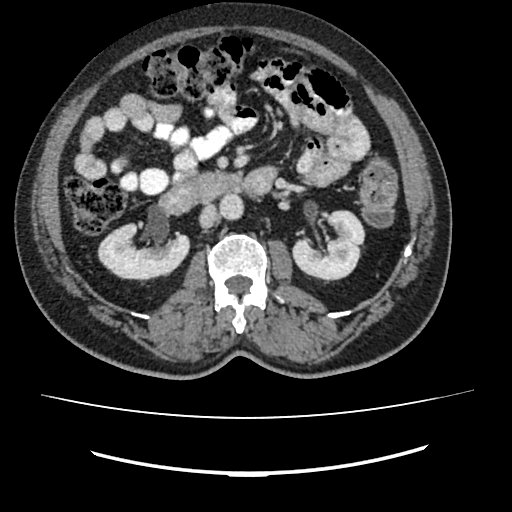aorta: (219, 192, 245, 221)
